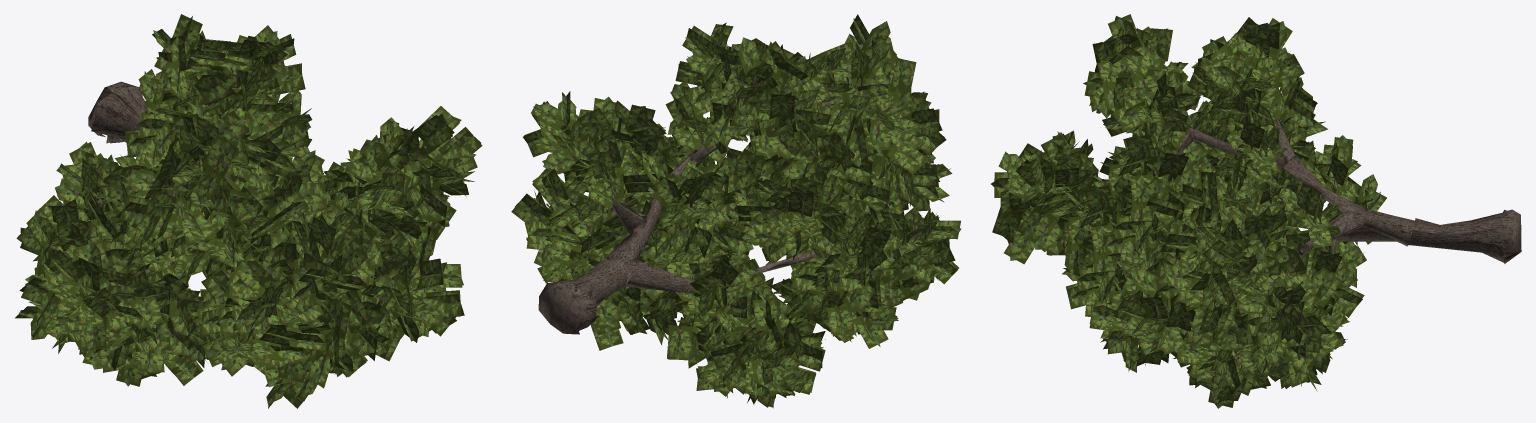
The model's file is tree.glb.
3 renders of one model, left to right at view 1: azimuth 30°, elevation 25°; view 2: azimuth 150°, elevation 25°; view 3: azimuth 270°, elevation 25°, orthographic. The views are drawn at different scales.
Visible parts, largest first — view 1: crown merged_normal leaves_0; view 2: crown merged_normal leaves_0; view 3: crown merged_normal leaves_0.
Part boxes in pixels (x1=…): crown merged_normal leaves_0: x1=15, y1=14, x2=482, y2=408; crown merged_normal leaves_0: x1=511, y1=14, x2=961, y2=408; crown merged_normal leaves_0: x1=991, y1=14, x2=1521, y2=408.
Size of the model in its own units: 4.5 by 3.68 by 5.02.
2 materials, 2 textured.
